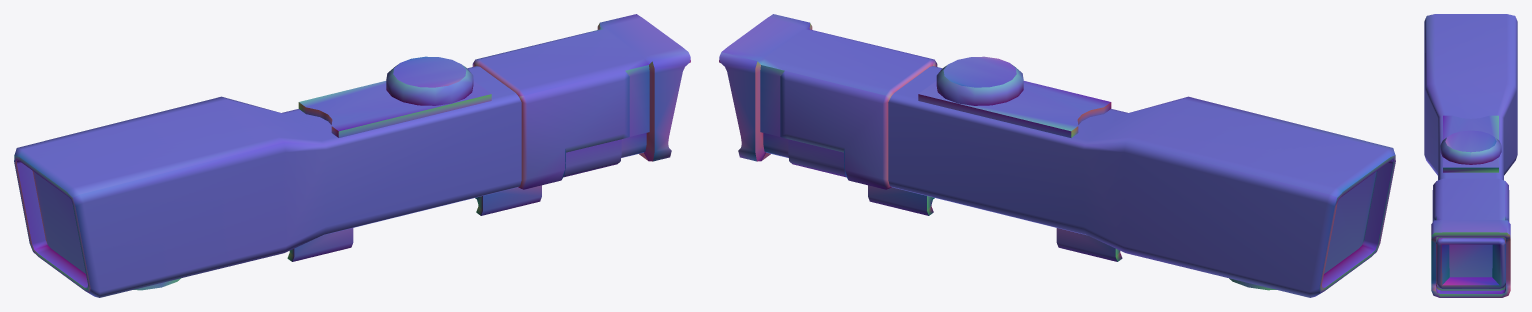
File: cw_CheyanneSSR01_Sight_WL.fbx
3 renders of one model, left to right at view 1: azimuth 30°, elevation 25°; view 2: azimuth 150°, elevation 25°; view 3: azimuth 270°, elevation 25°, orthographic. The views are drawn at different scales.
Visible parts, largest first — view 1: cw_CheyanneSSR01_Sight_WL_lod0; view 2: cw_CheyanneSSR01_Sight_WL_lod0; view 3: cw_CheyanneSSR01_Sight_WL_lod0.
Boxes of the visible parts, bbox=[...] form: cw_CheyanneSSR01_Sight_WL_lod0: bbox=[14, 14, 690, 297]; cw_CheyanneSSR01_Sight_WL_lod0: bbox=[719, 14, 1395, 297]; cw_CheyanneSSR01_Sight_WL_lod0: bbox=[1424, 14, 1517, 297].
Size of what is drawn, in the model's own units: 0.3387 by 0.0745 by 0.0636.
